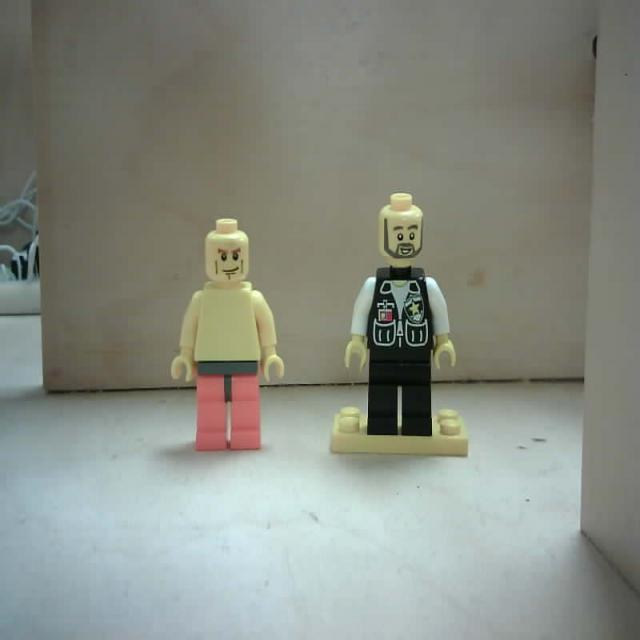Lego-People: (334, 193, 470, 459), (169, 216, 286, 453)
